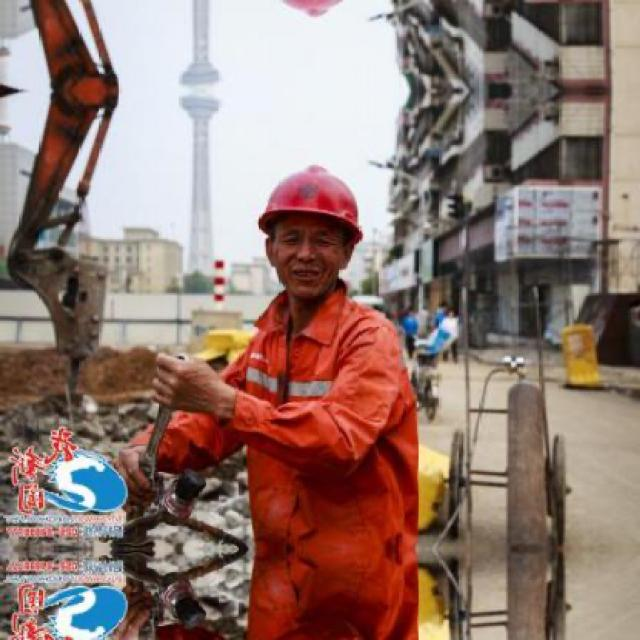helmet: (245, 156, 377, 300)
